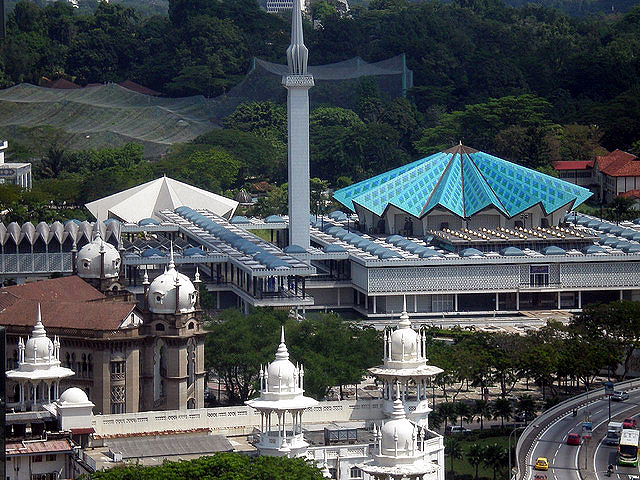Mosque: (343, 122, 594, 225), (270, 7, 317, 245)
